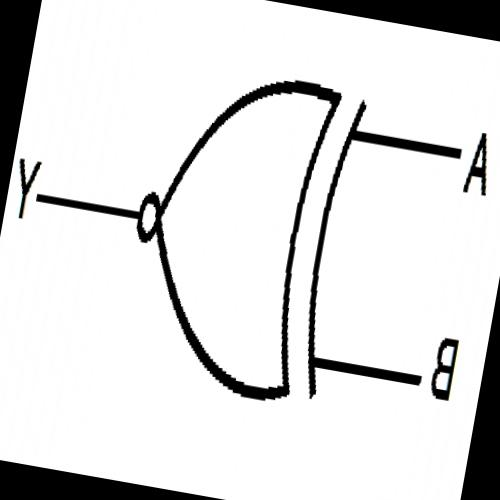xnor: (99, 38, 380, 423)
